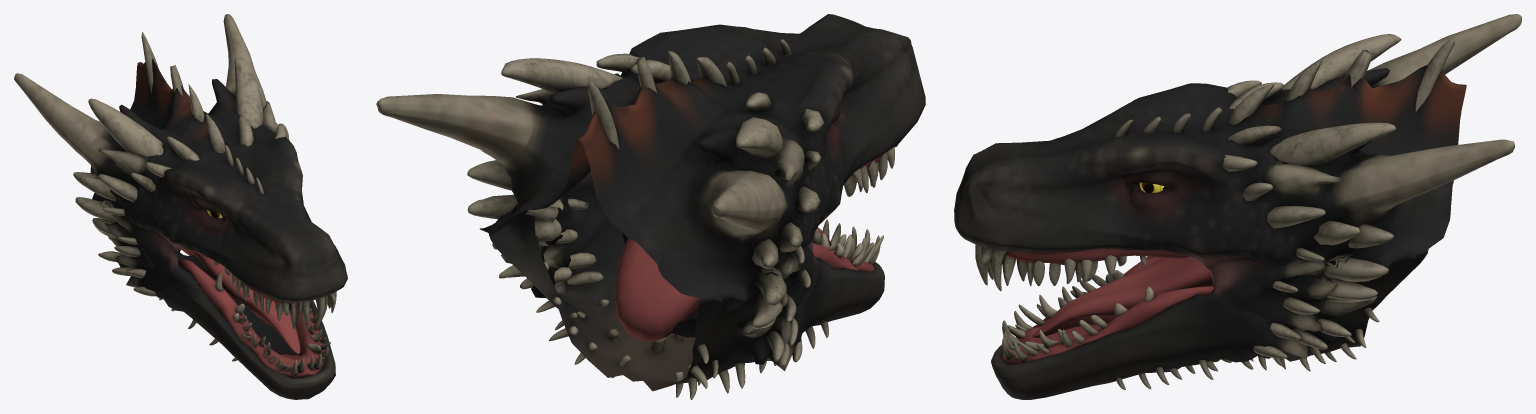
The model's file is dragon_000010.obj.
3 views of the same model, side by side, from view 1: azimuth 30°, elevation 25°; view 2: azimuth 150°, elevation 25°; view 3: azimuth 270°, elevation 25° (orthographic). The views are drawn at different scales.
Visible parts, largest first — view 1: Dragon_Untitled; view 2: Dragon_Untitled; view 3: Dragon_Untitled.
Boxes of the visible parts, bbox=[...] form: Dragon_Untitled: bbox=[14, 14, 347, 399]; Dragon_Untitled: bbox=[376, 14, 925, 399]; Dragon_Untitled: bbox=[954, 14, 1521, 399].
Size of the model in its own units: 2.72 by 3.08 by 4.45.
